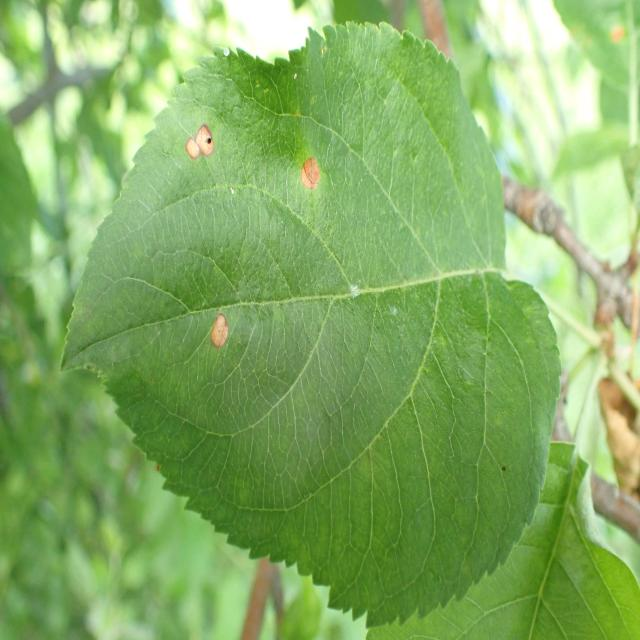Black Rot: (280, 137, 344, 223), (175, 113, 222, 173), (201, 304, 237, 370)
